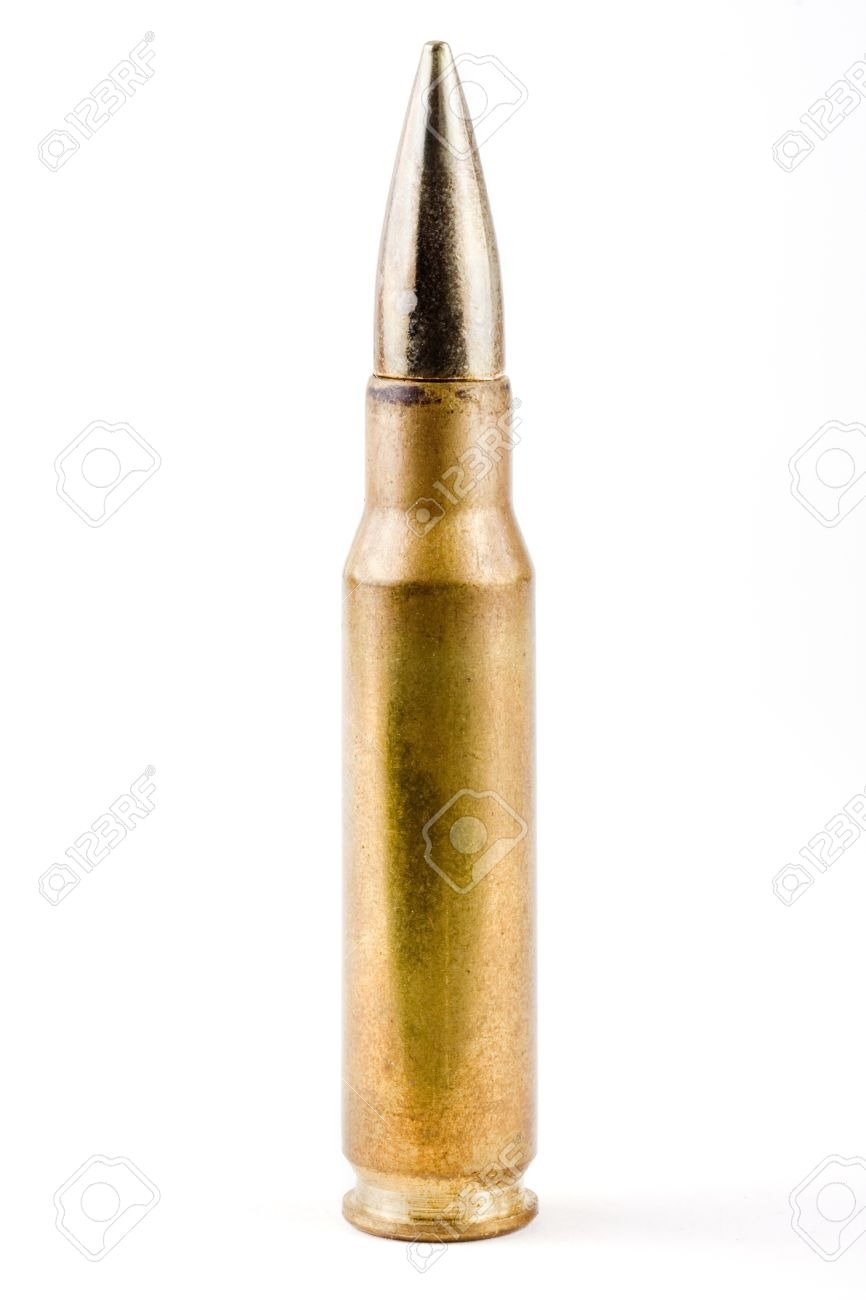bullet: (332, 30, 542, 1240)
